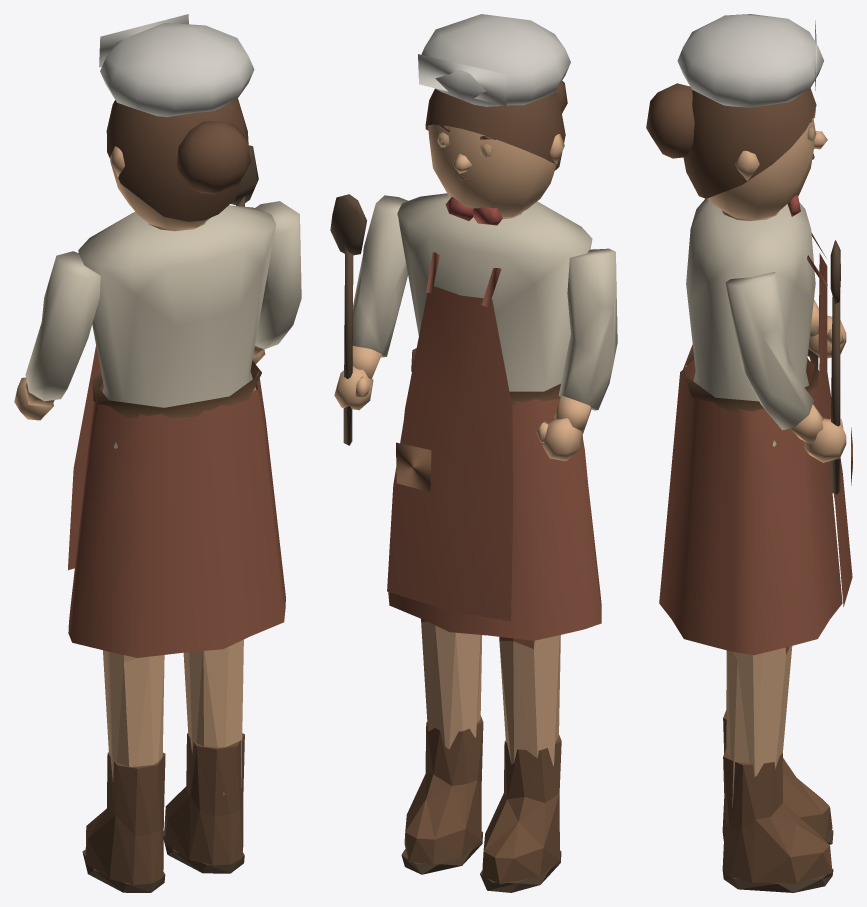
File: SM_NPC_CHEF_MEDIA.glb
3 views of the same model, side by side, from view 1: azimuth 30°, elevation 25°; view 2: azimuth 150°, elevation 25°; view 3: azimuth 270°, elevation 25° (orthographic).
Parts seen in each view (by area): view 1: SM_NPC_CHEF_BODY, SM_NPC_CHEF_HEAD, SM_NPC_CHEF_ARM_L, SM_NPC_CHEF_ARM_R; view 2: SM_NPC_CHEF_BODY, SM_NPC_CHEF_HEAD, SM_NPC_CHEF_ARM_R, SM_NPC_CHEF_ARM_L; view 3: SM_NPC_CHEF_BODY, SM_NPC_CHEF_HEAD, SM_NPC_CHEF_ARM_R, SM_NPC_CHEF_ARM_L.
Boxes of the visible parts, x1,y1,x2,y2 form: SM_NPC_CHEF_BODY: (68,205,285,892); SM_NPC_CHEF_HEAD: (99,14,254,229); SM_NPC_CHEF_ARM_L: (14,251,100,420); SM_NPC_CHEF_ARM_R: (231,145,301,364); SM_NPC_CHEF_BODY: (387,193,601,892); SM_NPC_CHEF_HEAD: (418,14,570,216); SM_NPC_CHEF_ARM_R: (330,194,408,445); SM_NPC_CHEF_ARM_L: (536,248,617,461); SM_NPC_CHEF_BODY: (659,193,852,892); SM_NPC_CHEF_HEAD: (646,14,827,219); SM_NPC_CHEF_ARM_R: (725,240,846,494); SM_NPC_CHEF_ARM_L: (808,299,846,358).
Bounding box in the file's own units: 0.6046 × 1.86 × 0.4181.
